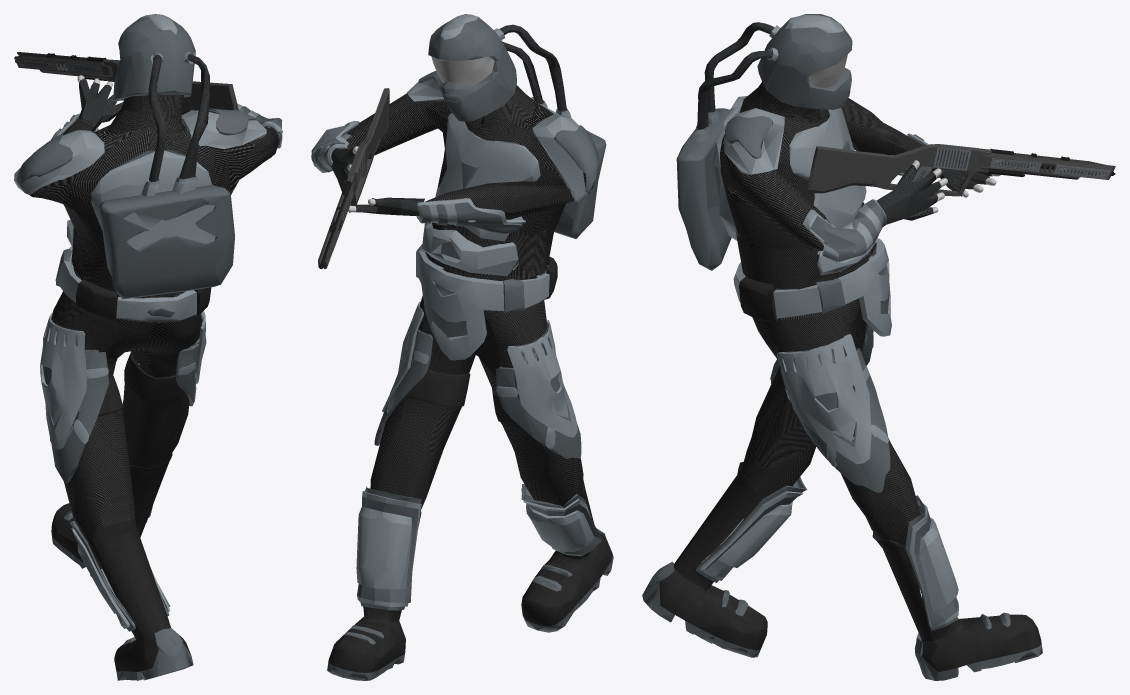
The model's file is AndarEscopeta.0017.obj.
3 renders of one model, left to right at view 1: azimuth 30°, elevation 25°; view 2: azimuth 150°, elevation 25°; view 3: azimuth 270°, elevation 25°, orthographic. The views are drawn at different scales.
Parts seen in each view (by area): view 1: personaje:extrudedSurface2 polySurface132, personaje:PANTALON polySurface132, personaje:CAMISETABUENA polySurface132, personaje:bota1 polySurface132, personaje:pPipe4 polySurface132, personaje:cosoarmdaurapierna1 polySurface132, personaje:cinturon polySurface132, personaje:pCube4 polySurface132, escopeta:Cylinder001 polySurface132, personaje:polySurface6 polySurface132, personaje:HOMBRO2 polySurface132, personaje:polySurface11 polySurface132 (+3 smaller); view 2: personaje:PANTALON polySurface132, personaje:CAMISETABUENA polySurface132, personaje:pPipe4 polySurface132, personaje:bota1 polySurface132, personaje:extrudedSurface2 polySurface132, personaje:cinturon polySurface132, personaje:armadbota1 polySurface132, personaje:pCube4 polySurface132, personaje:cosoarmdaurapierna1 polySurface132, escopeta:Cylinder001 polySurface132, personaje:polySurface6 polySurface132, personaje:polySurface2 polySurface132 (+6 smaller); view 3: personaje:bota1 polySurface132, personaje:CAMISETABUENA polySurface132, personaje:extrudedSurface2 polySurface132, personaje:PANTALON polySurface132, personaje:pPipe4 polySurface132, personaje:pCube4 polySurface132, escopeta:Cylinder001 polySurface132, personaje:cinturon polySurface132, personaje:armadbota1 polySurface132, personaje:cosoarmadurapierna2 polySurface132, personaje:hombro1 polySurface132, personaje:partearmdBRAZO2 polySurface132 (+1 smaller).
Part boxes in pixels (box(x1,y1,x2,y2)): personaje:extrudedSurface2 polySurface132: box(99, 14, 234, 299); personaje:PANTALON polySurface132: box(51, 271, 202, 568); personaje:CAMISETABUENA polySurface132: box(27, 94, 278, 322); personaje:bota1 polySurface132: box(51, 454, 193, 680); personaje:pPipe4 polySurface132: box(14, 78, 282, 247); personaje:cosoarmdaurapierna1 polySurface132: box(40, 313, 108, 449); personaje:cinturon polySurface132: box(55, 246, 211, 320); personaje:pCube4 polySurface132: box(43, 293, 206, 631); escopeta:Cylinder001 polySurface132: box(14, 52, 238, 111); personaje:polySurface6 polySurface132: box(98, 351, 185, 416); personaje:HOMBRO2 polySurface132: box(16, 133, 72, 184); personaje:polySurface11 polySurface132: box(148, 54, 166, 181); personaje:PANTALON polySurface132: box(370, 268, 583, 509); personaje:CAMISETABUENA polySurface132: box(328, 58, 594, 309); personaje:pPipe4 polySurface132: box(311, 78, 591, 276); personaje:bota1 polySurface132: box(327, 481, 613, 680); personaje:extrudedSurface2 polySurface132: box(428, 14, 606, 238); personaje:cinturon polySurface132: box(416, 244, 557, 360); personaje:armadbota1 polySurface132: box(356, 488, 595, 606); personaje:pCube4 polySurface132: box(357, 301, 601, 610); personaje:cosoarmdaurapierna1 polySurface132: box(496, 320, 577, 449); escopeta:Cylinder001 polySurface132: box(318, 88, 390, 268); personaje:polySurface6 polySurface132: box(406, 370, 523, 429); personaje:polySurface2 polySurface132: box(418, 202, 522, 233); personaje:bota1 polySurface132: box(642, 462, 1042, 680); personaje:CAMISETABUENA polySurface132: box(720, 82, 923, 320); personaje:extrudedSurface2 polySurface132: box(676, 14, 852, 270); personaje:PANTALON polySurface132: box(741, 255, 920, 569); personaje:pPipe4 polySurface132: box(712, 96, 992, 275); personaje:pCube4 polySurface132: box(695, 324, 958, 631); escopeta:Cylinder001 polySurface132: box(807, 144, 1115, 196); personaje:cinturon polySurface132: box(733, 238, 891, 336); personaje:armadbota1 polySurface132: box(699, 481, 958, 628); personaje:cosoarmadurapierna2 polySurface132: box(780, 348, 890, 492); personaje:hombro1 polySurface132: box(725, 116, 772, 159); personaje:partearmdBRAZO2 polySurface132: box(803, 199, 886, 262).
Bounding box in the file's own units: 4.26 × 9.51 × 6.16.
